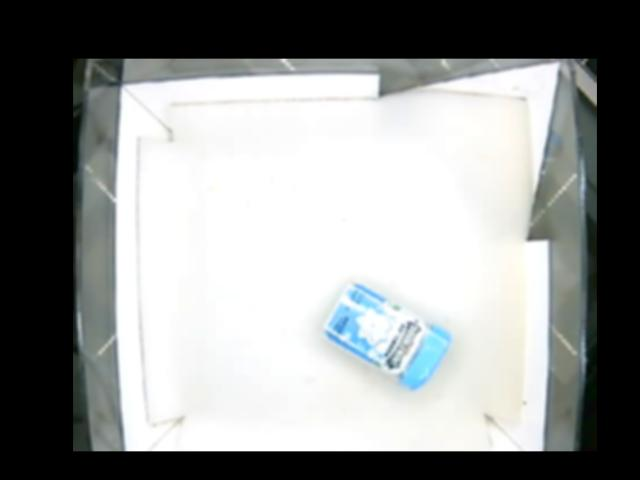Bottle: (321, 286, 454, 391)
